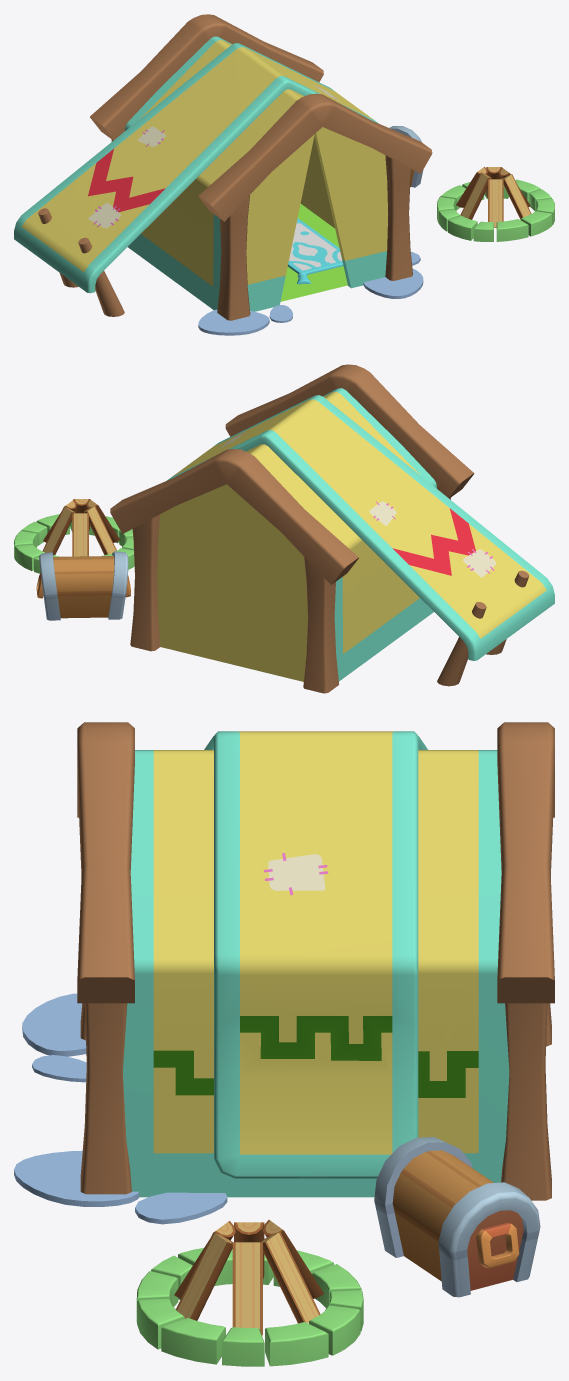
The model's file is Hut lvl 2 many parts.fbx.
3 views of the same model, one above another, from view 1: azimuth 30°, elevation 25°; view 2: azimuth 150°, elevation 25°; view 3: azimuth 270°, elevation 25° (orthographic). The views are drawn at different scales.
Visible parts, largest first — view 1: Plane.026, Plane.027, Plane.023, Plane.022, Plane.025, Plane.014; view 2: Plane.027, Plane.026, Plane.023, Plane.022, Plane.024, Plane.025; view 3: Plane.026, Plane.027, Plane.023, Plane.022, Plane.025, Plane.024.
Boxes of the visible parts, bbox=[...] form: Plane.026: bbox=[14, 43, 378, 316]; Plane.027: bbox=[125, 36, 388, 311]; Plane.023: bbox=[90, 14, 432, 221]; Plane.022: bbox=[111, 139, 423, 335]; Plane.025: bbox=[437, 167, 554, 241]; Plane.014: bbox=[280, 204, 347, 301]; Plane.027: bbox=[157, 388, 436, 681]; Plane.026: bbox=[167, 395, 554, 686]; Plane.023: bbox=[110, 364, 474, 584]; Plane.022: bbox=[130, 498, 450, 693]; Plane.024: bbox=[36, 551, 130, 620]; Plane.025: bbox=[14, 499, 134, 573]; Plane.026: bbox=[204, 731, 427, 1179]; Plane.027: bbox=[123, 750, 509, 1197]; Plane.023: bbox=[77, 722, 554, 1003]; Plane.022: bbox=[14, 993, 551, 1224]; Plane.025: bbox=[136, 1220, 363, 1366]; Plane.024: bbox=[374, 1137, 540, 1297].
Size of the model in its own units: 1254 by 497 by 634.
